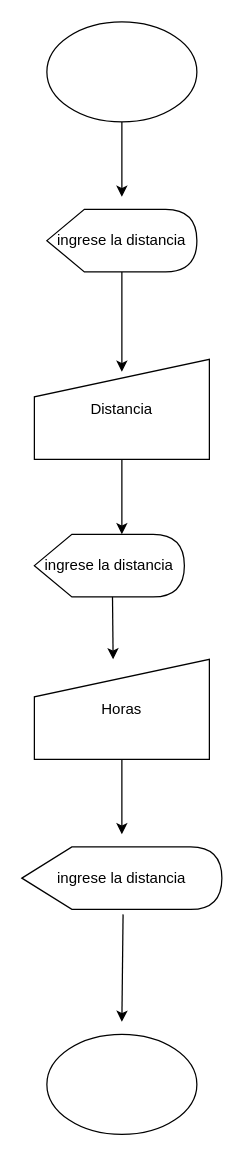
This 244x1156 diagram has some shape labels left out. Here are the shapes that lost their labels. From the top down, the centre of each, then its label:
point 121,71: inicio
point 121,1083: Fin
